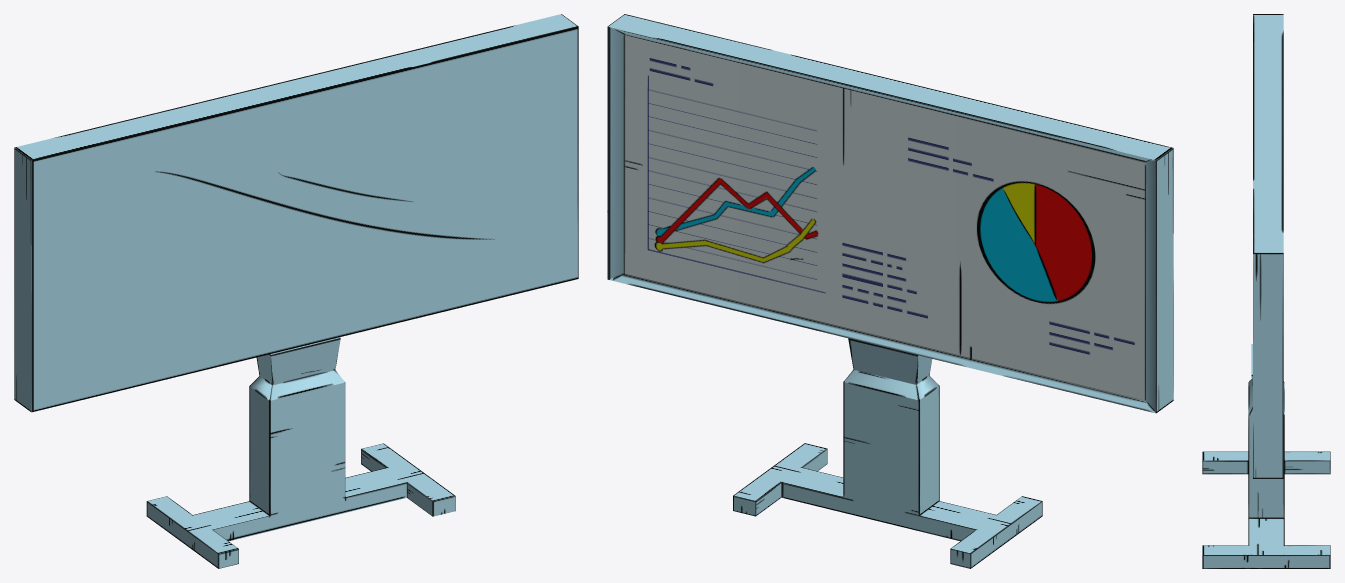
File: digibord.fbx
The picture shows the model from 3 angles, left to right: view 1: azimuth 30°, elevation 25°; view 2: azimuth 150°, elevation 25°; view 3: azimuth 270°, elevation 25°; orthographic projection. The views are drawn at different scales.
Visible parts, largest first — view 1: digiboard; view 2: digiboard; view 3: digiboard.
Part boxes in pixels (<box>): digiboard: <box>14,14,578,568</box>; digiboard: <box>607,14,1173,568</box>; digiboard: <box>1202,14,1330,568</box>.
Size of the model in its own units: 3.57 by 2.66 by 0.8111.
